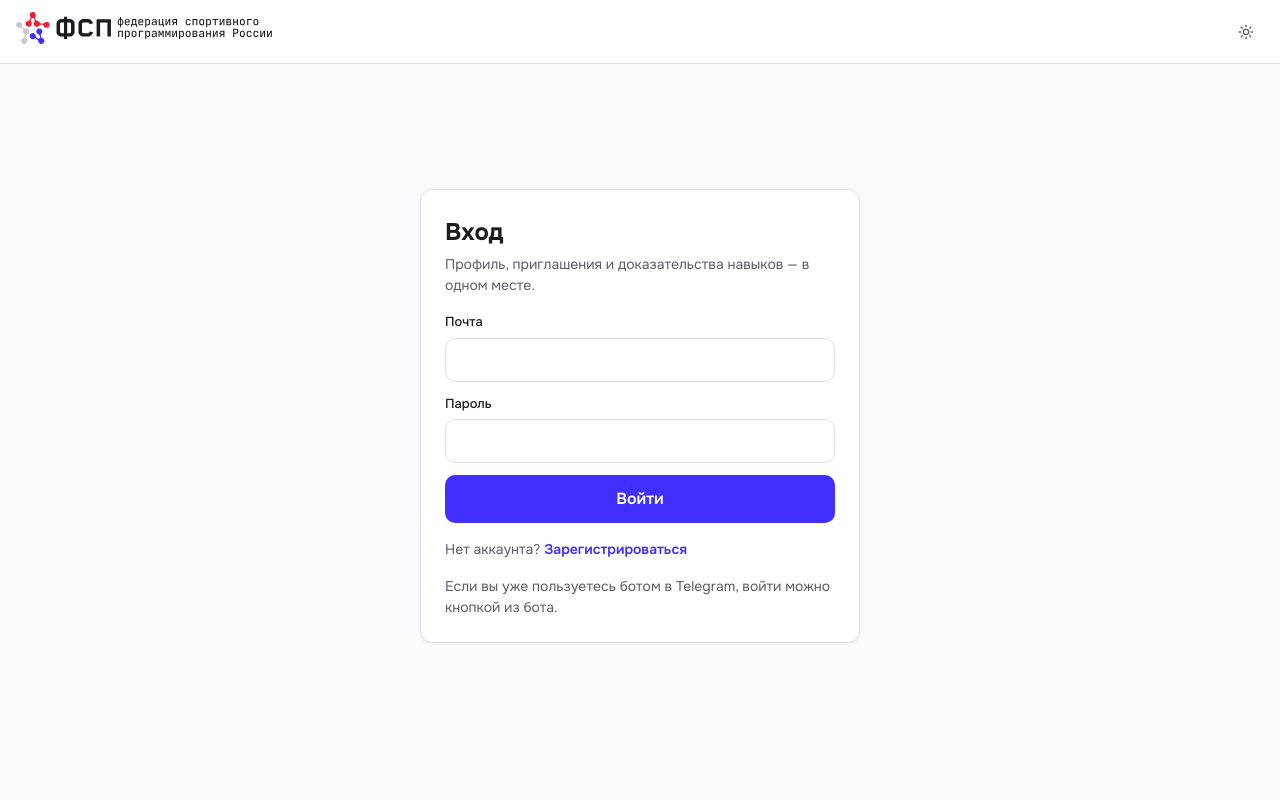
Test: неверный пароль показывает ошибку и остаётся на форме
This screenshot has width=1280, height=800.
Type "a@b.ru" into the field labelled "Почта".
click(640, 360); type("a@b.ru")  # box [445,338,835,382]
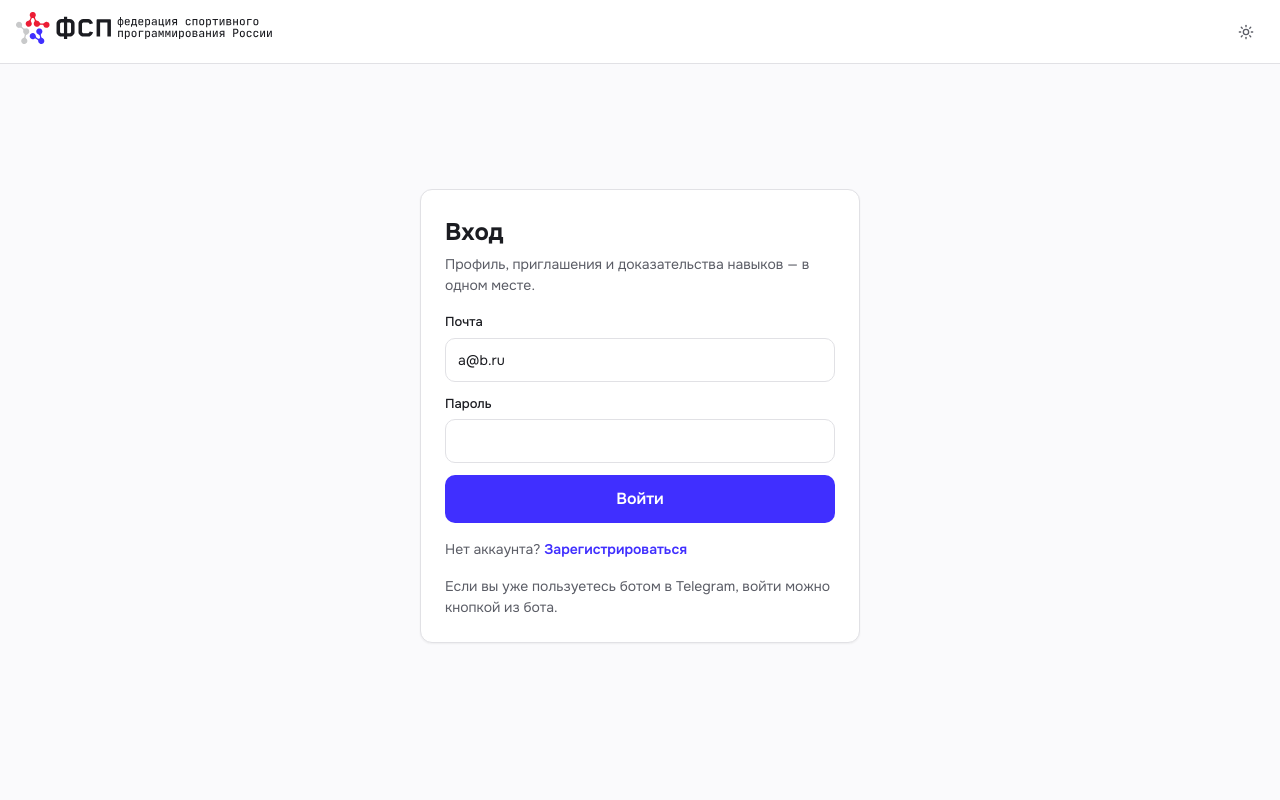
Type "bad" into the password field labelled "Пароль".
click(640, 441); type("bad")  # box [445,419,835,463]
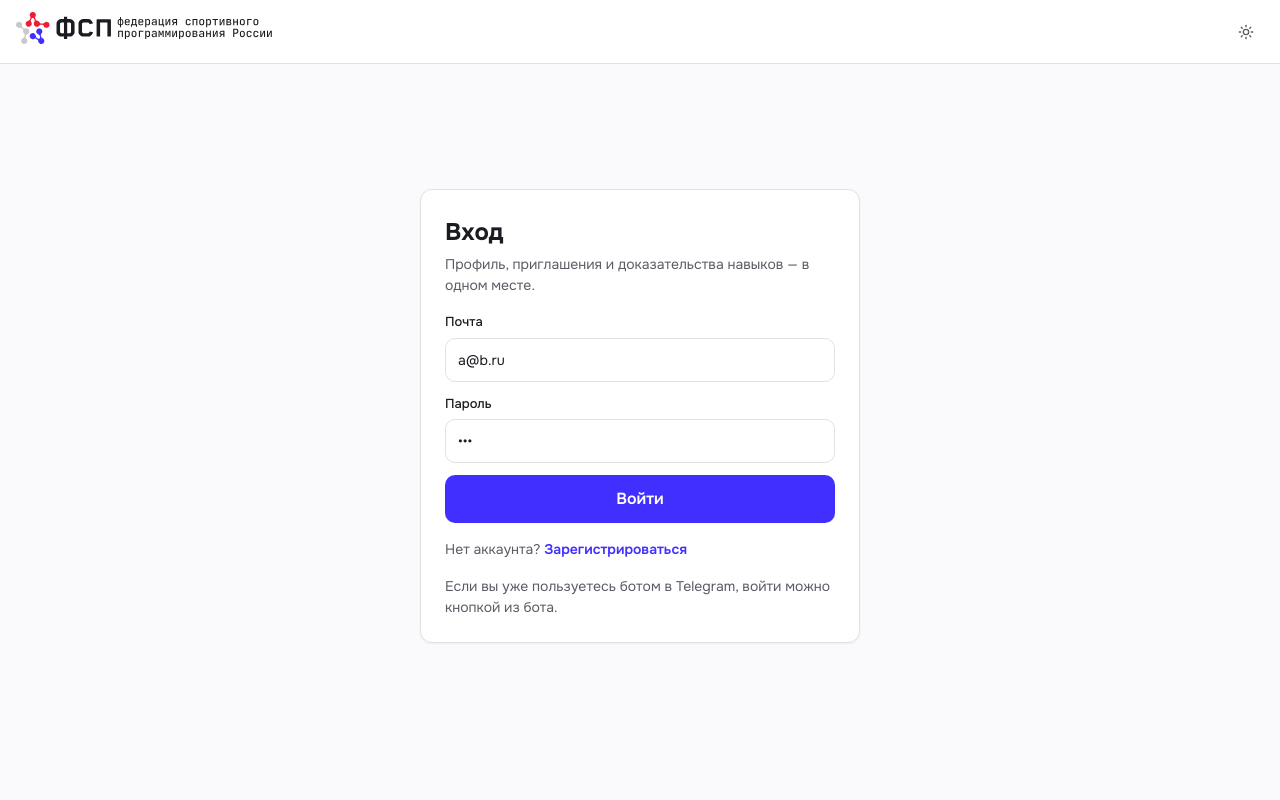
Click the button "Войти".
click(640, 499)  # box [445,475,835,523]
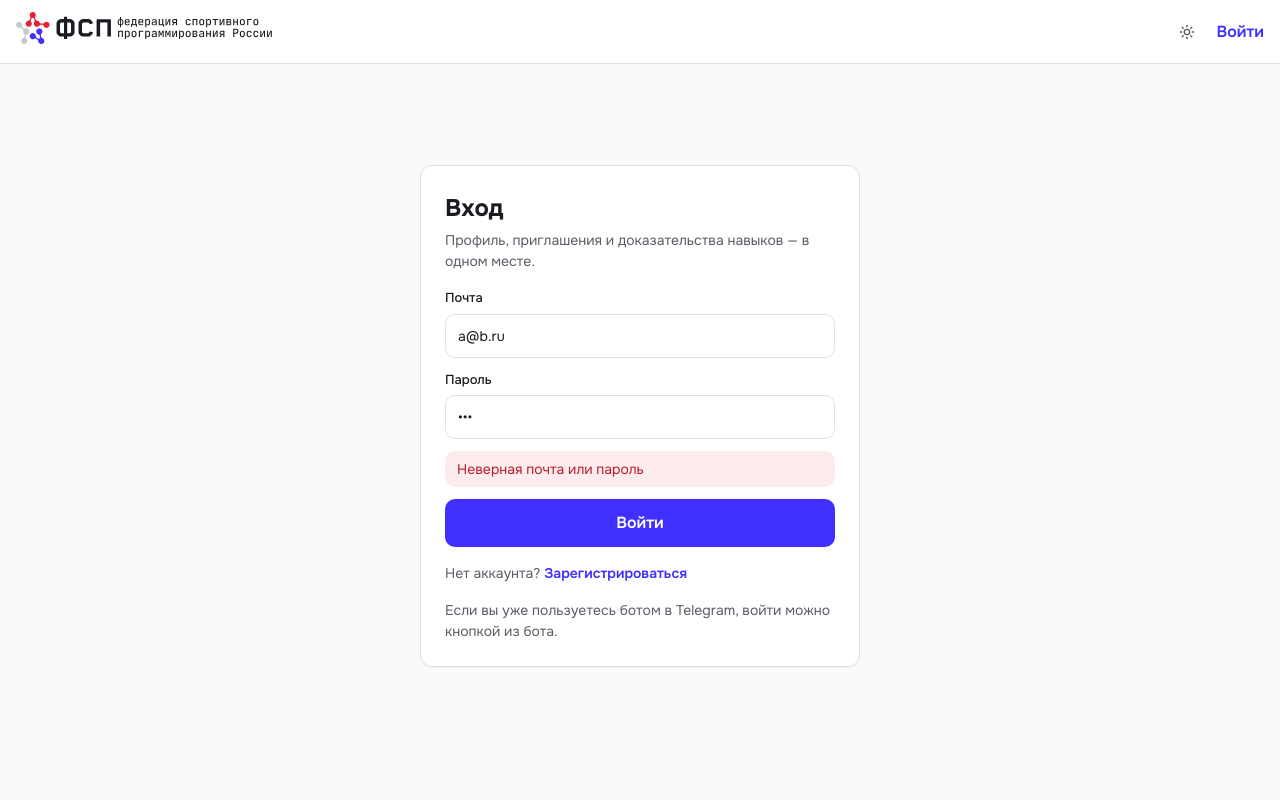
expect the button "Войти" is enabled: met, box [445,499,835,547]
expect the message reads "Неверная почта или пароль": met, box [457,460,644,478]
